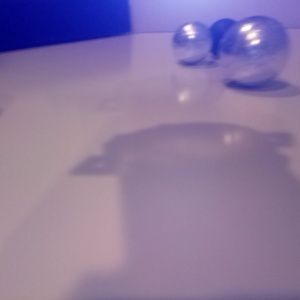alive_ball: (219, 16, 290, 88), (173, 21, 212, 65)
dead_ball: (206, 20, 241, 58)
